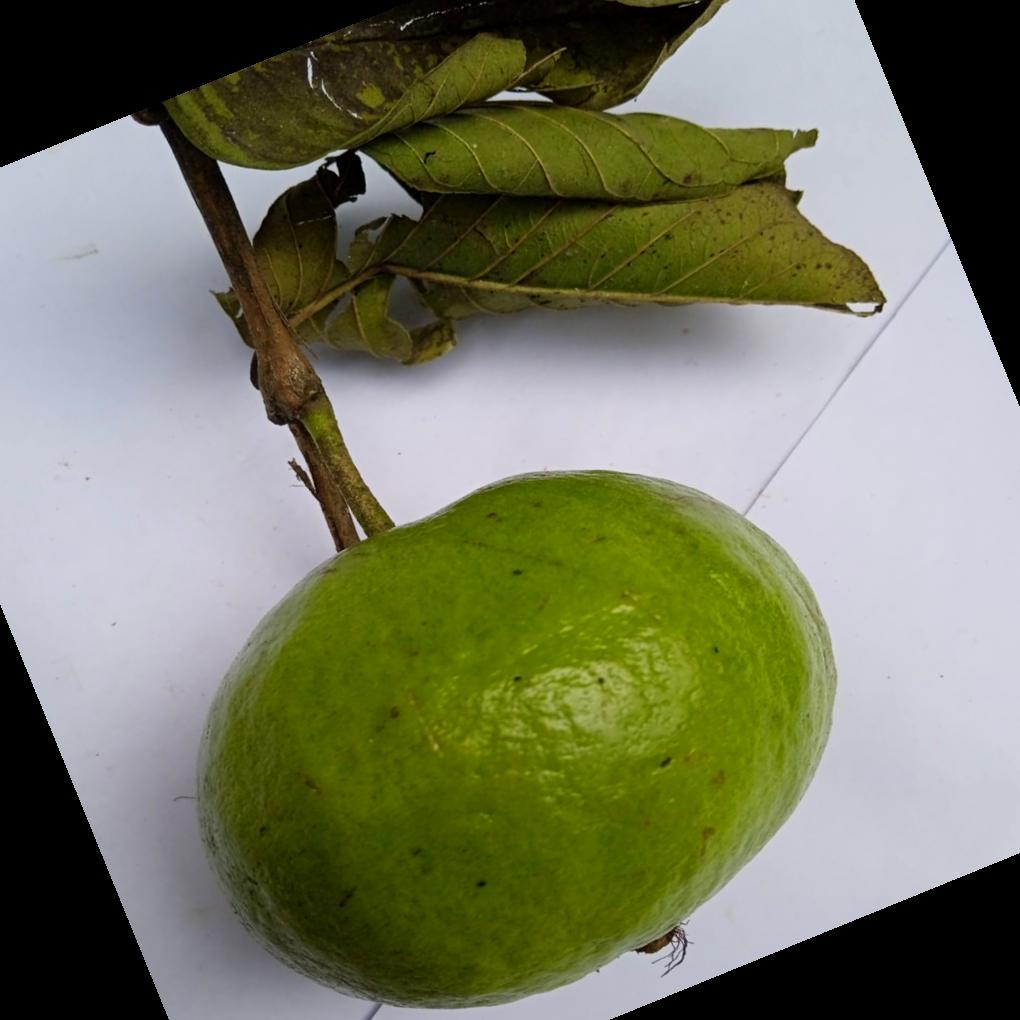FreshGuava: (195, 470, 838, 1013)
